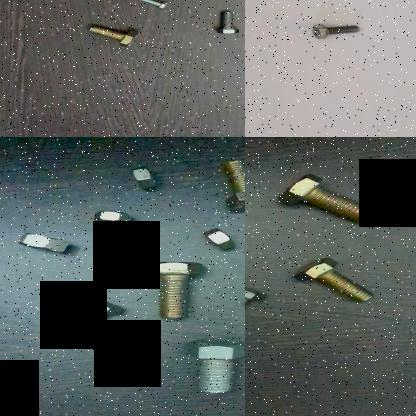Bolts: (275, 171, 385, 230), (287, 254, 383, 306), (144, 250, 206, 321), (185, 327, 245, 397), (60, 293, 128, 340), (201, 157, 245, 213), (87, 17, 139, 47), (245, 282, 269, 326), (310, 21, 362, 41), (210, 6, 242, 36), (123, 0, 174, 10)
NUTS: (14, 230, 74, 258), (121, 164, 164, 193), (82, 206, 138, 228), (195, 226, 243, 250), (94, 260, 140, 284), (111, 342, 155, 366)
